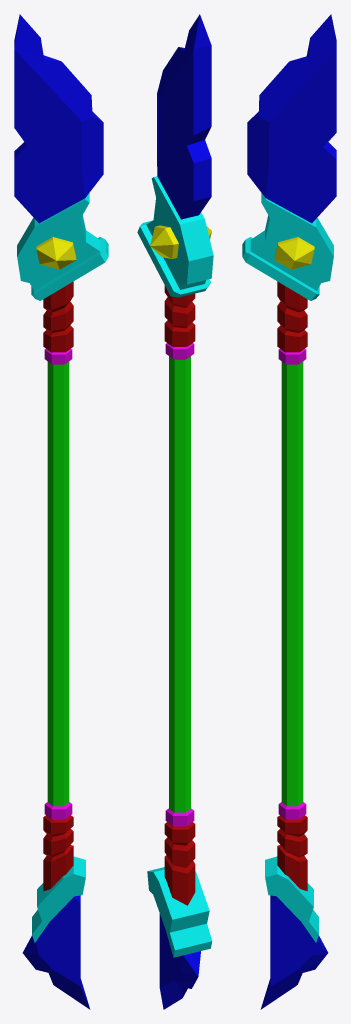
Rendered from Spear_Rare_Double.fbx.
The picture shows the model from 3 angles, left to right: view 1: azimuth 90°, elevation 25°; view 2: azimuth 210°, elevation 25°; view 3: azimuth 270°, elevation 25°; orthographic projection. The views are drawn at different scales.
Parts seen in each view (by area): view 1: SM_Wep_Staff_DoubleBlade_01; view 2: SM_Wep_Staff_DoubleBlade_01; view 3: SM_Wep_Staff_DoubleBlade_01.
Boxes of the visible parts, x1,y1,x2,y2 form: SM_Wep_Staff_DoubleBlade_01: [14, 14, 108, 1009]; SM_Wep_Staff_DoubleBlade_01: [137, 14, 213, 1009]; SM_Wep_Staff_DoubleBlade_01: [242, 14, 336, 1009].
Bounding box in the file's own units: 0.1275 × 2.01 × 0.1724.
